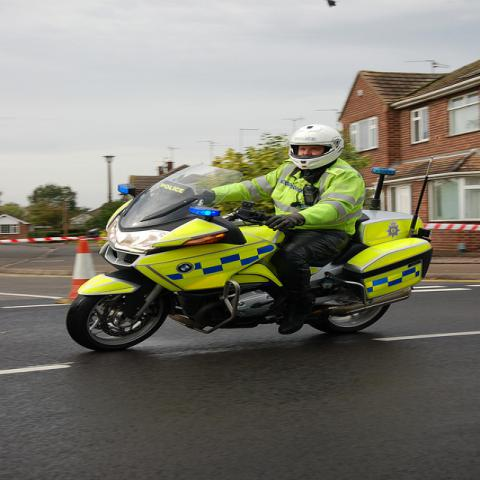motorcycle: (67, 155, 436, 351)
